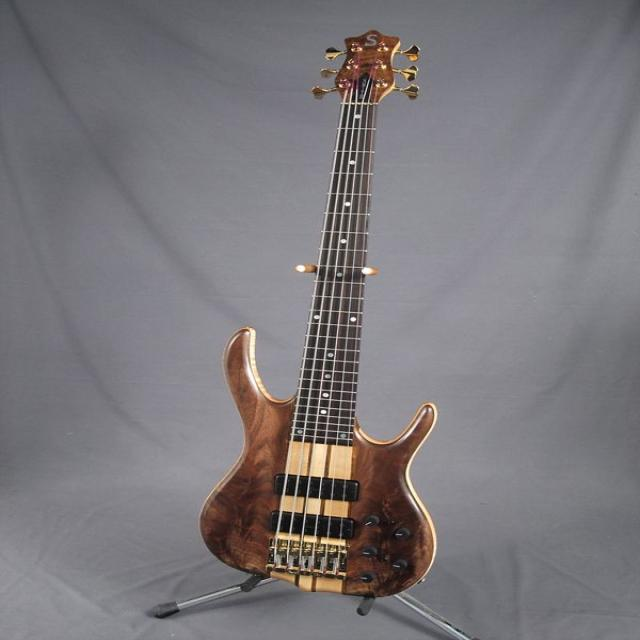bass: (201, 30, 435, 595)
